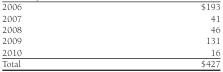table: (1, 1, 219, 68)
table column: (1, 1, 110, 68), (110, 1, 219, 68)
table row: (1, 34, 219, 46), (1, 1, 219, 12), (1, 12, 219, 23), (1, 23, 219, 34), (1, 46, 219, 57), (1, 57, 219, 68)
